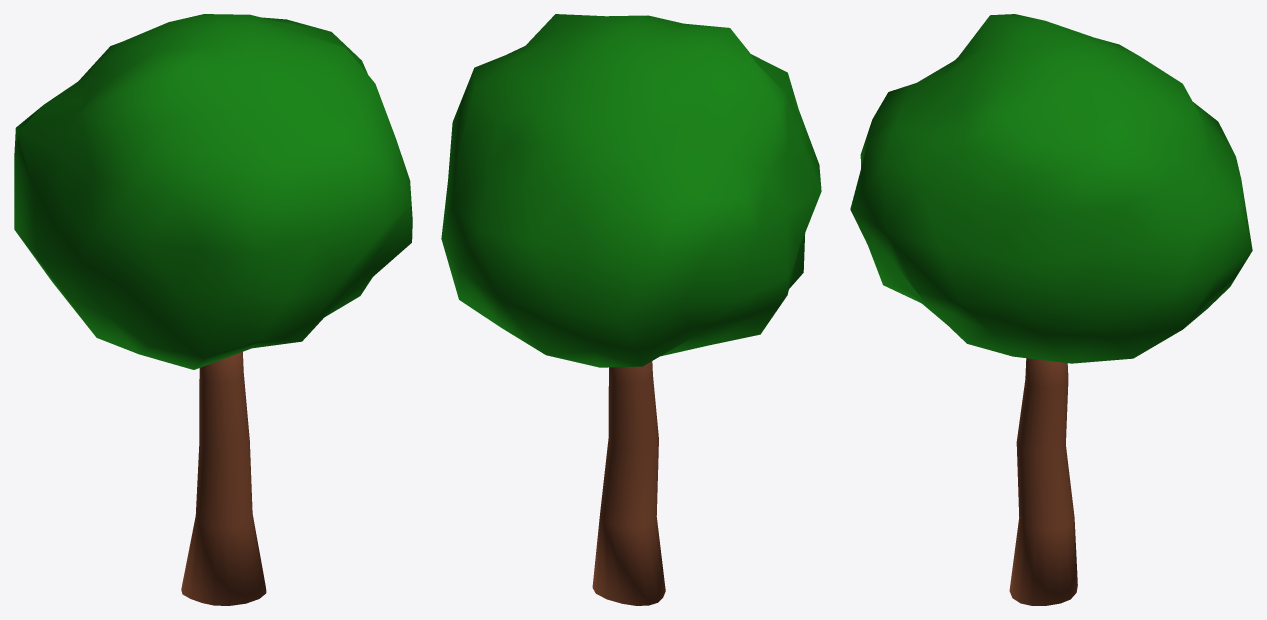
The model's file is tree1.fbx.
The picture shows the model from 3 angles, left to right: view 1: azimuth 30°, elevation 25°; view 2: azimuth 150°, elevation 25°; view 3: azimuth 270°, elevation 25°; orthographic projection. The views are drawn at different scales.
Visible parts, largest first — view 1: Cylinder; view 2: Cylinder; view 3: Cylinder.
Part boxes in pixels (x1=…): Cylinder: x1=14, y1=14, x2=412, y2=605; Cylinder: x1=441, y1=14, x2=821, y2=605; Cylinder: x1=850, y1=14, x2=1252, y2=605.
Bounding box in the file's own units: 2.43 × 3.9 × 2.61.
